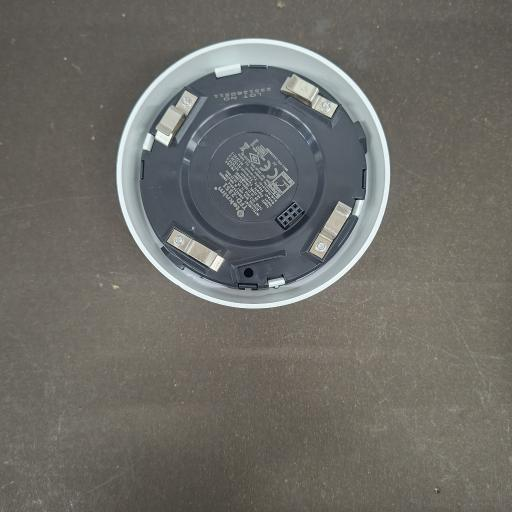yayli: (280, 74, 338, 118), (309, 202, 351, 259), (167, 229, 224, 271), (155, 91, 197, 146)
